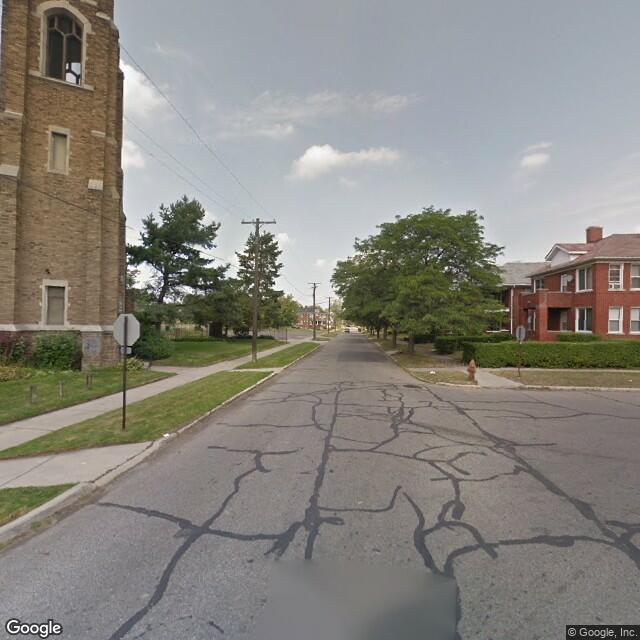litter: (161, 431, 170, 437), (428, 370, 438, 375)
